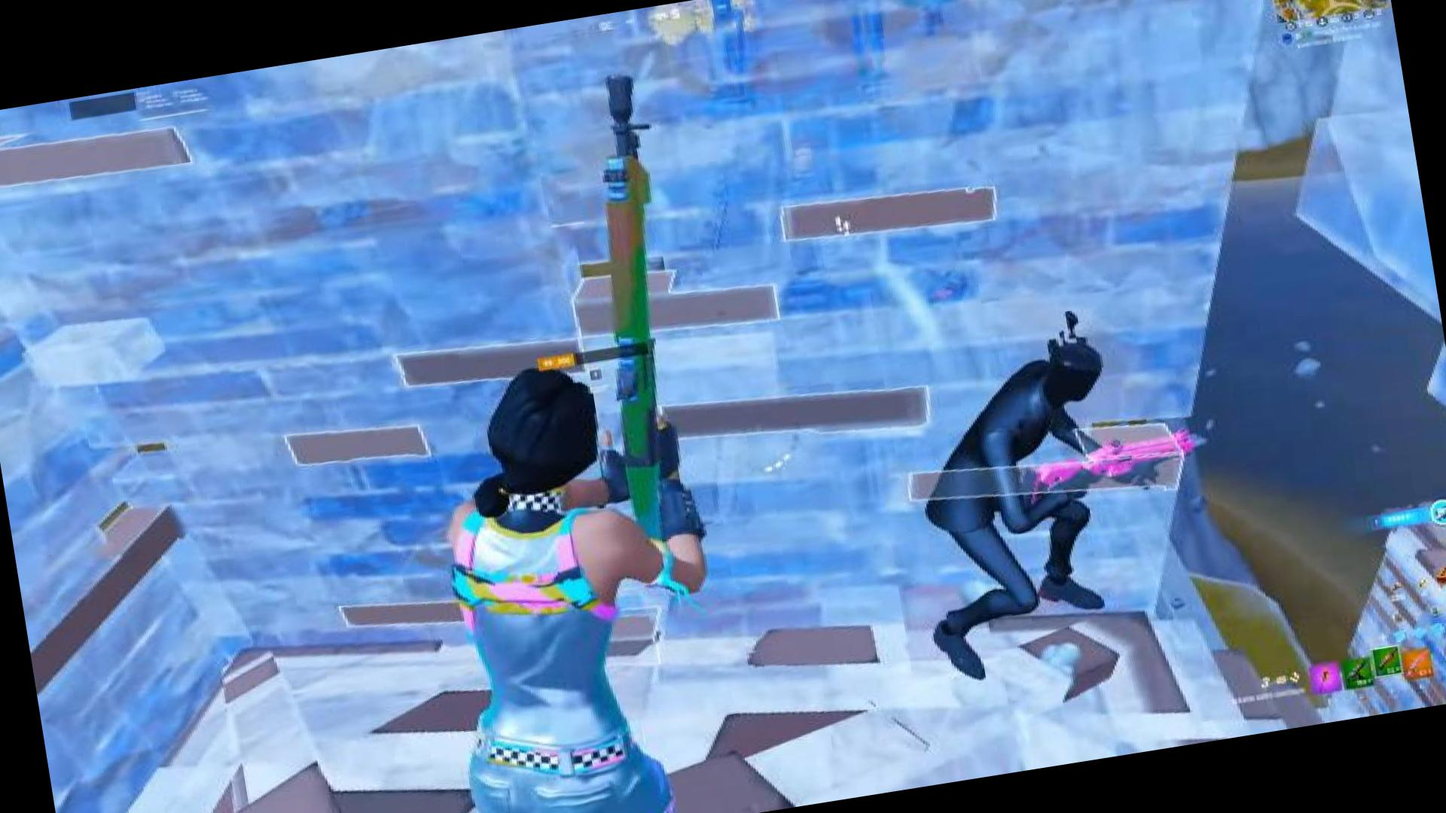player: (888, 324, 1156, 655)
